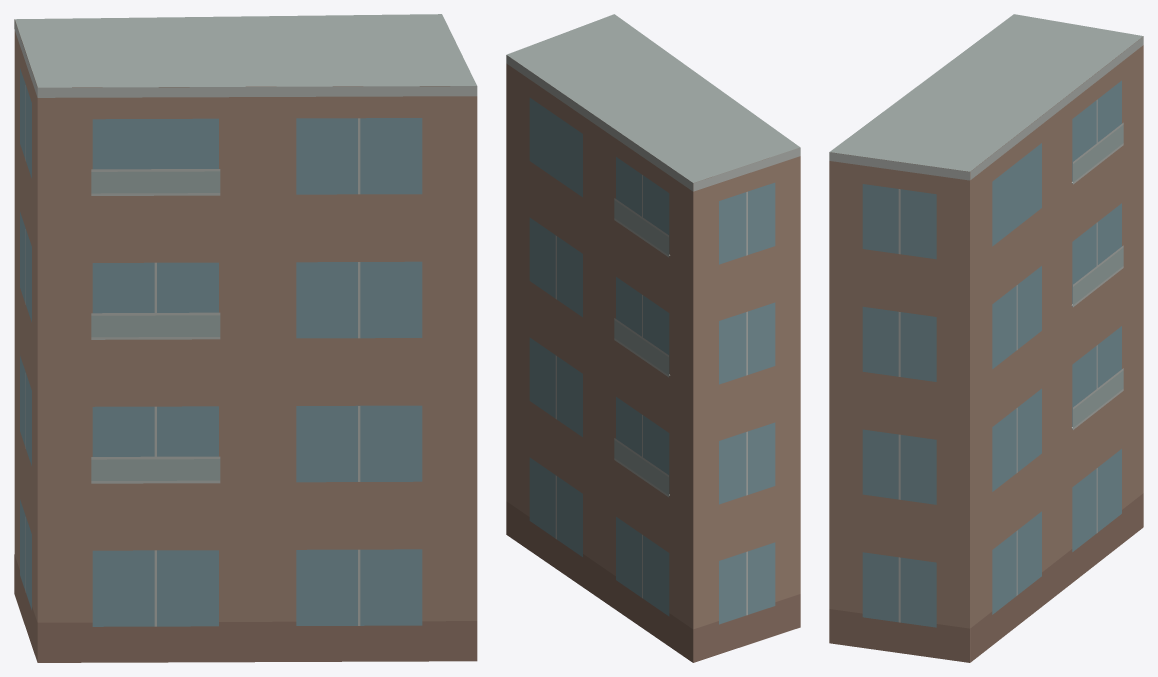
Rendered from survey-upis-32966846.glb.
The picture shows the model from 3 angles, left to right: view 1: azimuth 30°, elevation 25°; view 2: azimuth 150°, elevation 25°; view 3: azimuth 270°, elevation 25°; orthographic projection. The views are drawn at different scales.
Visible parts, largest first — view 1: survey-upis-32966846.tmp; view 2: survey-upis-32966846.tmp; view 3: survey-upis-32966846.tmp.
Boxes of the visible parts, <box> form: survey-upis-32966846.tmp: <box>14,14,477,662</box>; survey-upis-32966846.tmp: <box>506,14,800,662</box>; survey-upis-32966846.tmp: <box>829,14,1143,662</box>.
Bounding box in the file's own units: 9.38 × 13.6 × 7.9.
